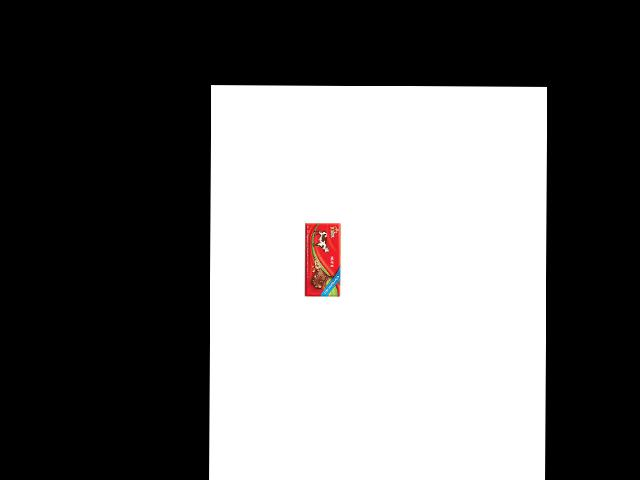chocolate: (305, 219, 340, 296)
